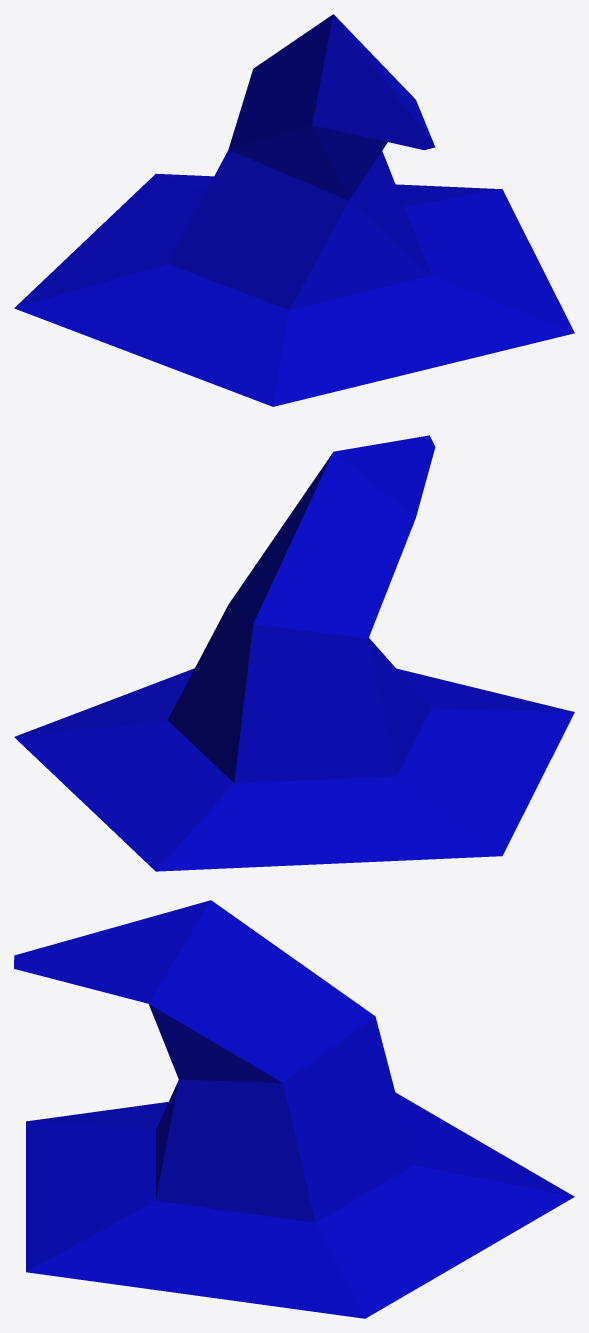
Rendered from Wizard hat blue curved.obj.
3 renders of one model, top to bottom at view 1: azimuth 30°, elevation 25°; view 2: azimuth 150°, elevation 25°; view 3: azimuth 270°, elevation 25°, orthographic. The views are drawn at different scales.
Parts seen in each view (by area): view 1: Circle; view 2: Circle; view 3: Circle.
Boxes of the visible parts, bbox=[...] form: Circle: bbox=[14, 14, 574, 406]; Circle: bbox=[14, 435, 574, 871]; Circle: bbox=[14, 900, 574, 1318].
Bounding box in the file's own units: 4.04 × 2.29 × 3.93.
